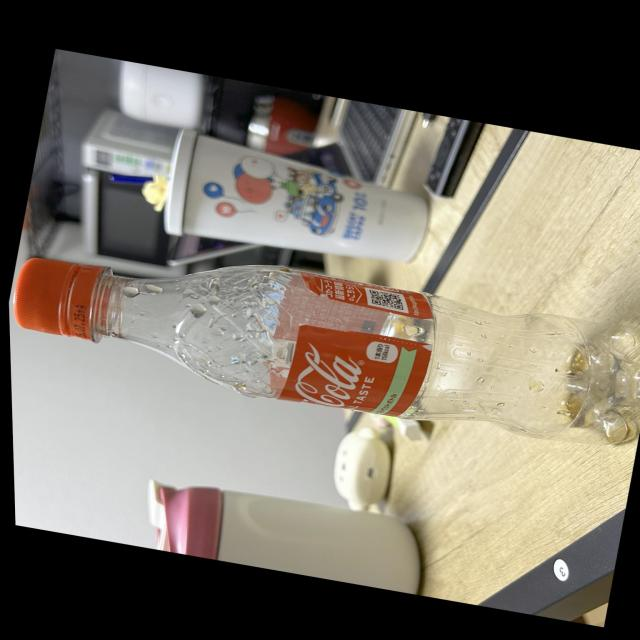empty: (15, 259, 640, 444)
